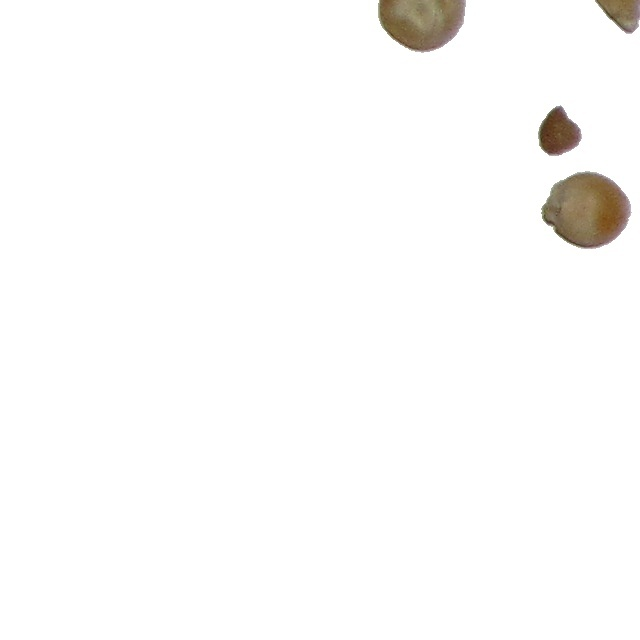buckwheat: (537, 104, 583, 157)
mais: (540, 170, 633, 250)
